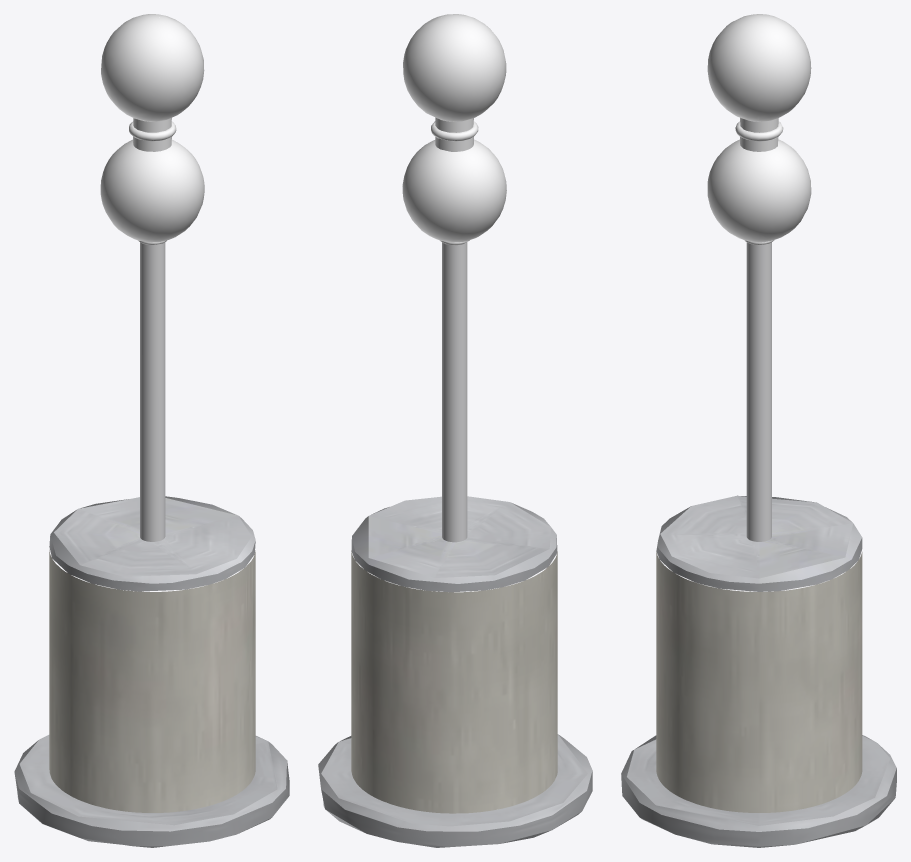
Rendered from ferro-orbis_knight_white.glb.
The picture shows the model from 3 angles, left to right: view 1: azimuth 30°, elevation 25°; view 2: azimuth 150°, elevation 25°; view 3: azimuth 270°, elevation 25°; orthographic projection.
Visible parts, largest first — view 1: ferro-orbis_knight_white; view 2: ferro-orbis_knight_white; view 3: ferro-orbis_knight_white.
Boxes of the visible parts, x1,y1,x2,y2 form: ferro-orbis_knight_white: [14, 14, 289, 847]; ferro-orbis_knight_white: [318, 14, 592, 847]; ferro-orbis_knight_white: [621, 14, 896, 847].
Size of the model in its own units: 0.0258 by 0.08 by 0.0259.
5 materials, 3 textured.
